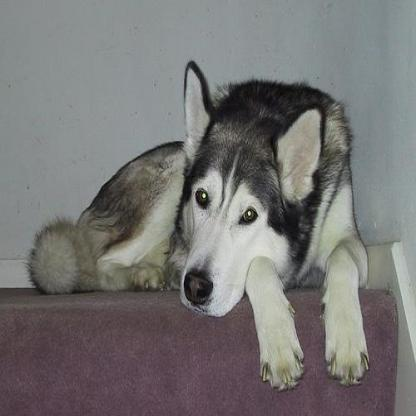malamute: (28, 56, 368, 388)
